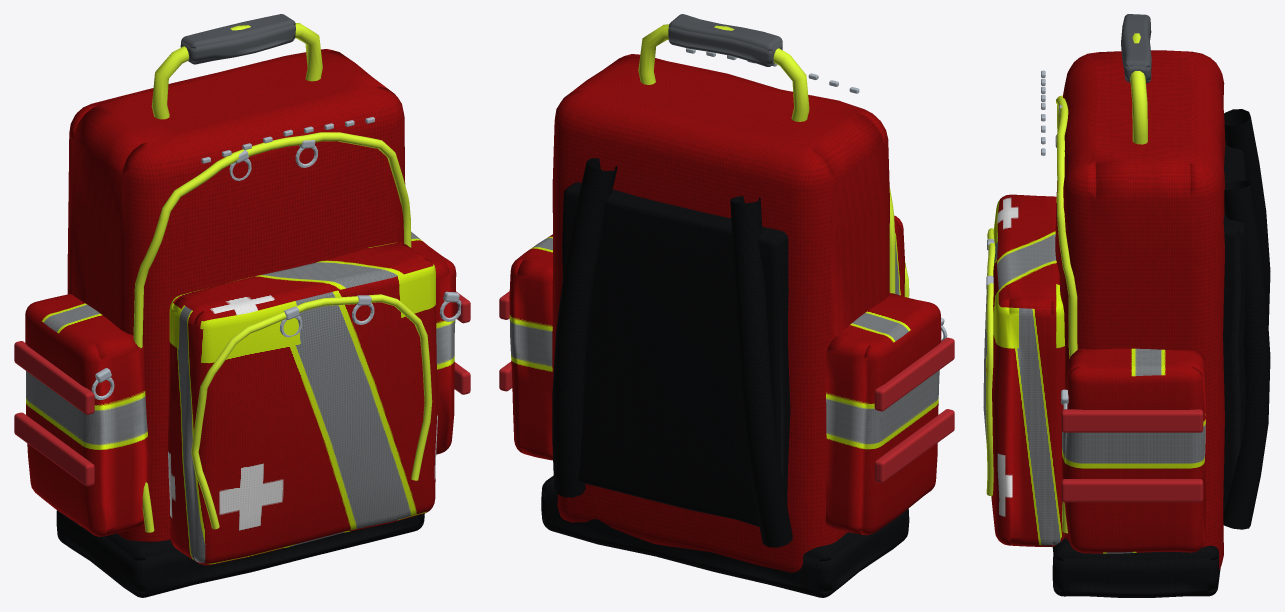
Rendered from MissionMedicalBackpackCargo_LOD00.gltf.
The picture shows the model from 3 angles, left to right: view 1: azimuth 30°, elevation 25°; view 2: azimuth 150°, elevation 25°; view 3: azimuth 270°, elevation 25°; orthographic projection. The views are drawn at different scales.
Visible parts, largest first — view 1: MedicalBackpackPouches, MedicalBackpackSoftBody, MedicalBackpackHardware; view 2: MedicalBackpackSoftBody, MedicalBackpackHardware, MedicalBackpackPouches; view 3: MedicalBackpackSoftBody, MedicalBackpackPouches, MedicalBackpackHardware.
Part boxes in pixels (left/top/right/bottom): MedicalBackpackPouches: left=25, top=232, right=456, bottom=565; MedicalBackpackSoftBody: left=56, top=49, right=424, bottom=597; MedicalBackpackHardware: left=14, top=14, right=470, bottom=532; MedicalBackpackSoftBody: left=541, top=54, right=909, bottom=597; MedicalBackpackHardware: left=499, top=14, right=954, bottom=547; MedicalBackpackPouches: left=509, top=215, right=941, bottom=535; MedicalBackpackSoftBody: left=1052, top=50, right=1246, bottom=597; MedicalBackpackPouches: left=983, top=194, right=1206, bottom=553; MedicalBackpackHardware: left=986, top=14, right=1270, bottom=533.
Size of the model in its own units: 0.564 by 0.7155 by 0.3744.
8 materials, 4 textured.
